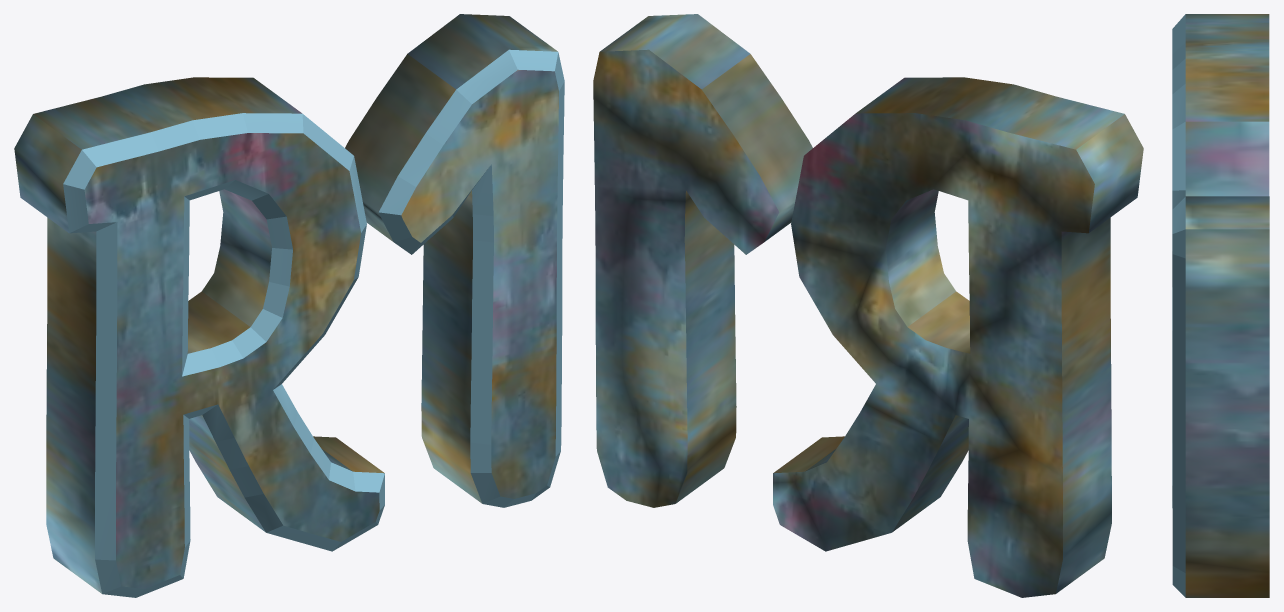
File: pm-button-r-01.glb
The picture shows the model from 3 angles, left to right: view 1: azimuth 30°, elevation 25°; view 2: azimuth 150°, elevation 25°; view 3: azimuth 270°, elevation 25°; orthographic projection. The views are drawn at different scales.
Parts seen in each view (by area): view 1: ButtonR01; view 2: ButtonR01; view 3: ButtonR01.
Part boxes in pixels (bbox=[...]): ButtonR01: bbox=[14, 14, 564, 597]; ButtonR01: bbox=[593, 14, 1143, 597]; ButtonR01: bbox=[1172, 14, 1269, 597].
Size of the model in its own units: 0.1916 by 0.1699 by 0.0374.
1 material, 1 textured.
